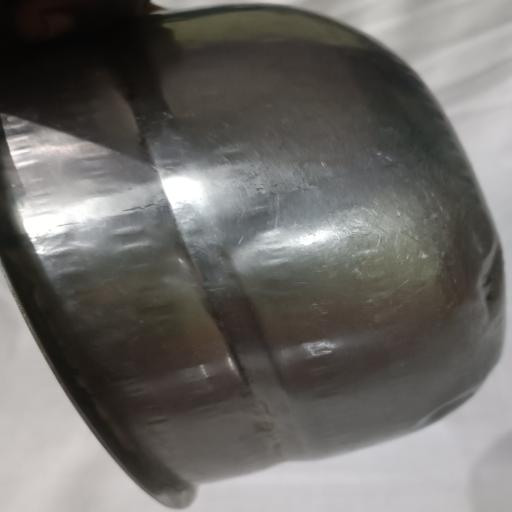vessel: (0, 6, 503, 507)
